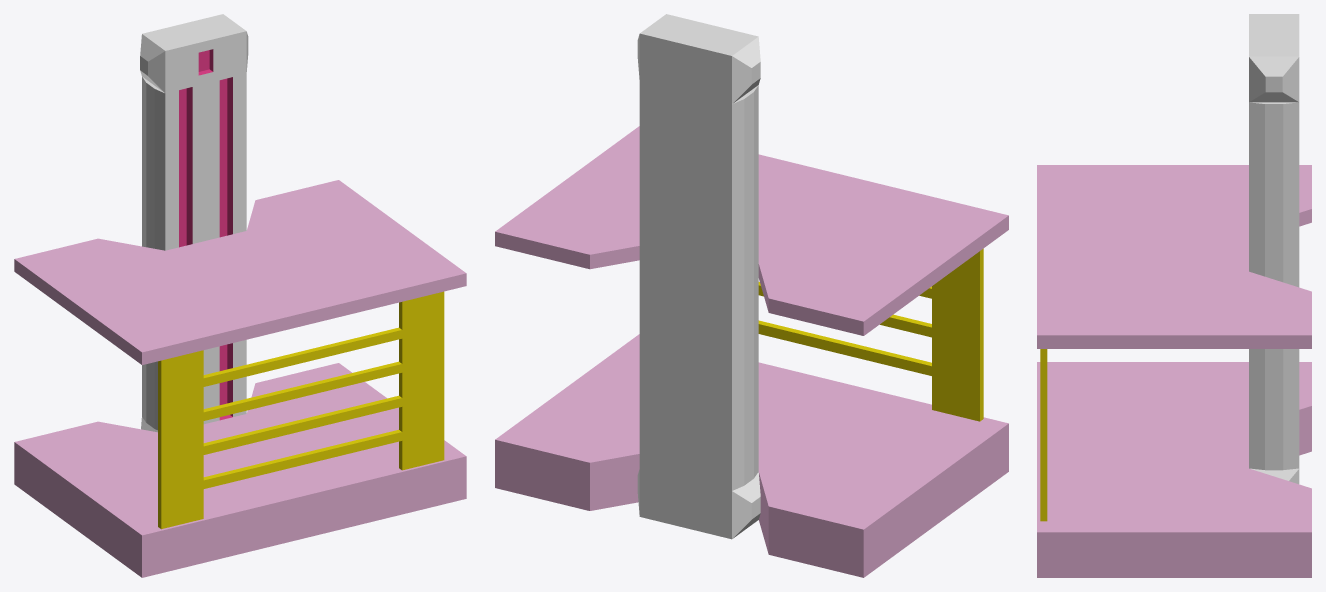
The model's file is Mining Elevator.fbx.
3 views of the same model, side by side, from view 1: azimuth 30°, elevation 25°; view 2: azimuth 150°, elevation 25°; view 3: azimuth 270°, elevation 25° (orthographic). The views are drawn at different scales.
Parts seen in each view (by area): view 1: Cube.001, Cube; view 2: Cube.001, Cube; view 3: Cube.001, Cube.
Boxes of the visible parts, x1=… form: Cube.001: x1=14, y1=180, x2=466, y2=577; Cube: x1=140, y1=14, x2=248, y2=432; Cube.001: x1=495, y1=126, x2=1008, y2=577; Cube: x1=637, y1=14, x2=760, y2=539; Cube.001: x1=1037, y1=165, x2=1311, y2=577; Cube: x1=1249, y1=14, x2=1299, y2=484.
Size of the model in its own units: 798 by 1000 by 544.
